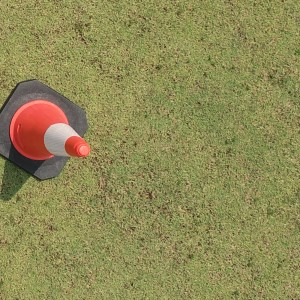traffic cone: (1, 79, 89, 181)
